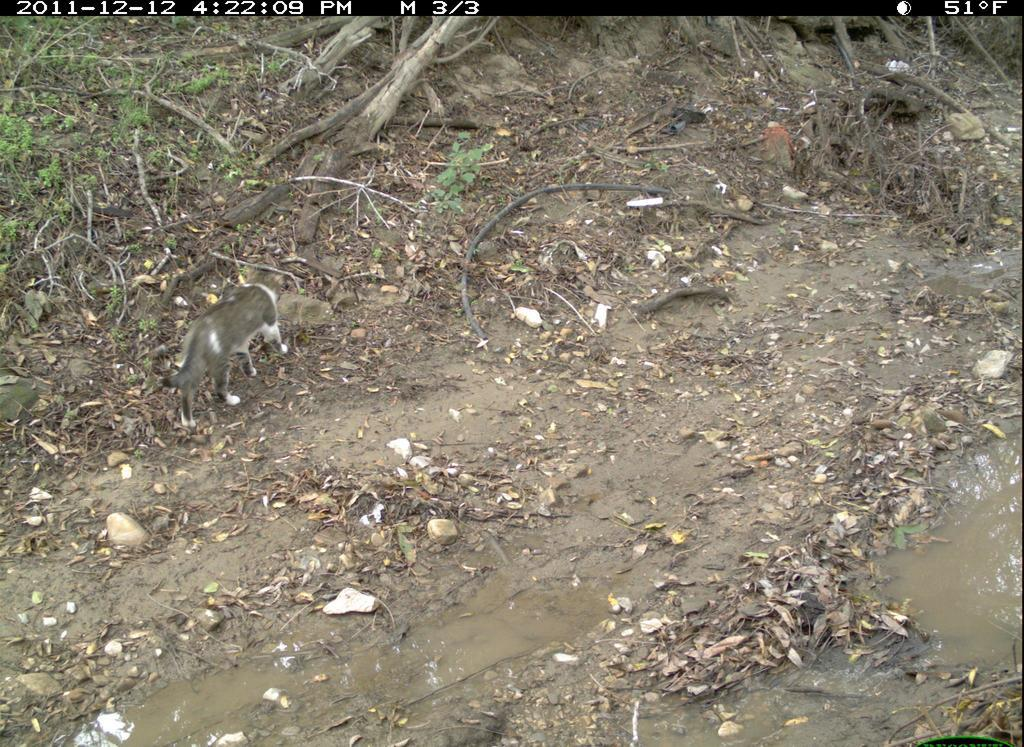cat: (152, 255, 299, 433)
